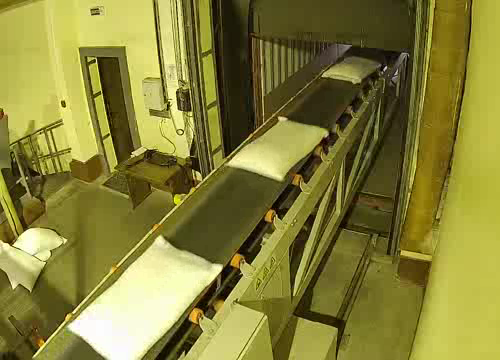bag: (64, 234, 224, 360), (227, 115, 329, 183), (322, 56, 383, 83)
